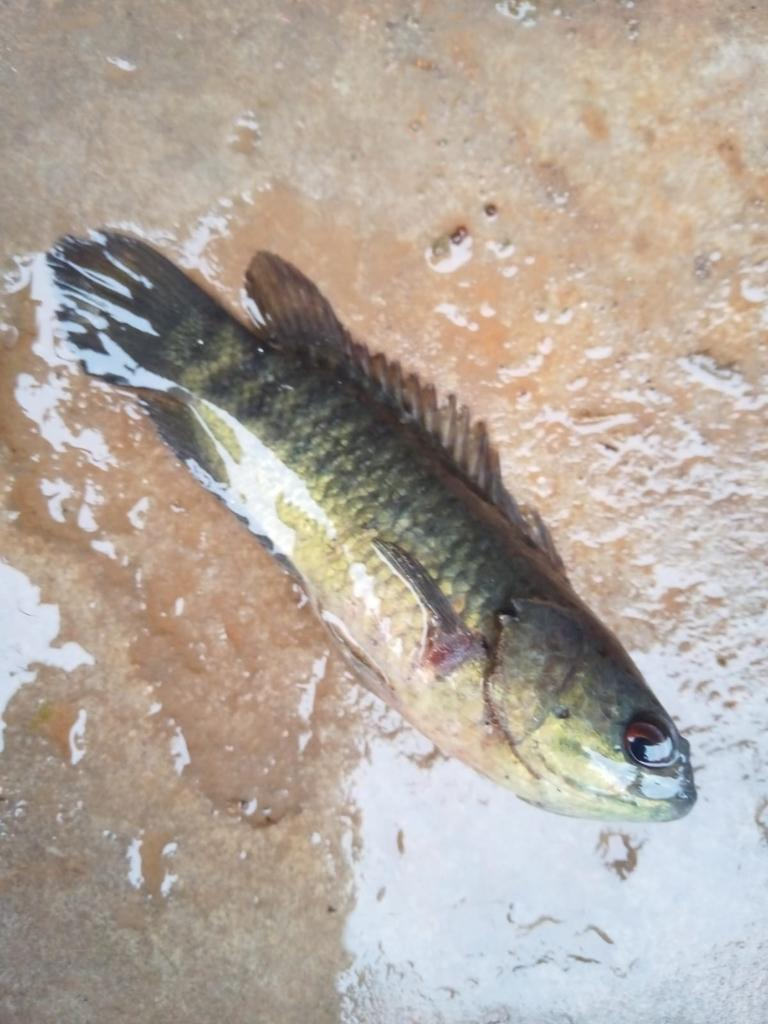Climbing Perch: (38, 215, 708, 828)
